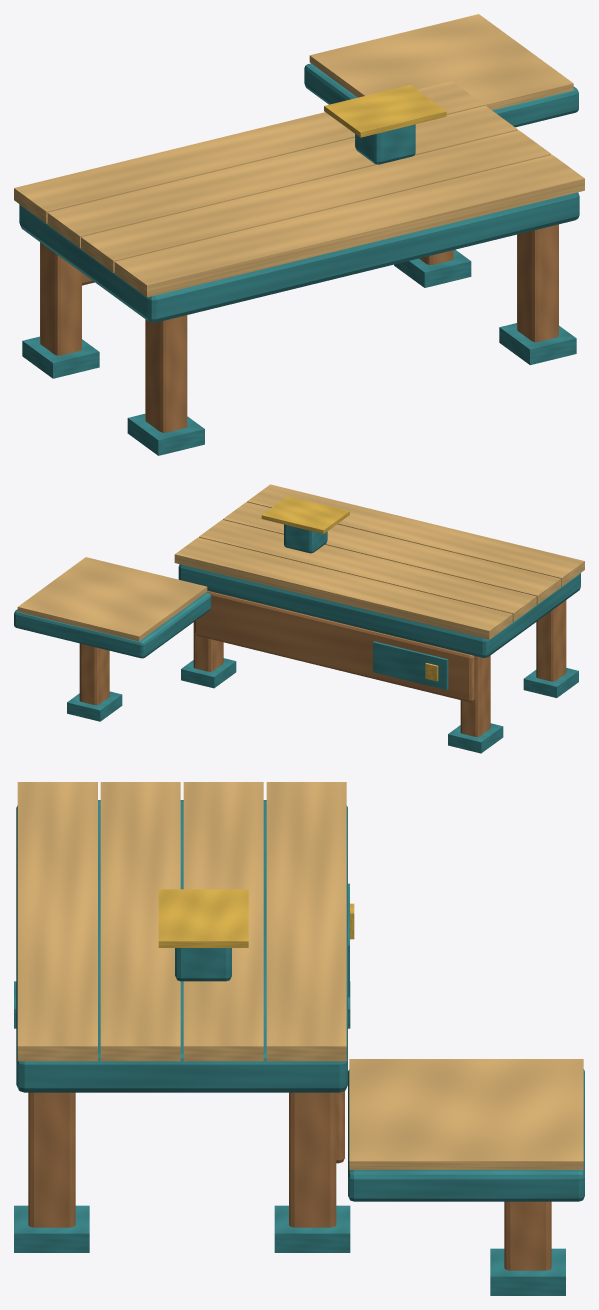
File: industry-market-stall-tier-1.glb
3 views of the same model, one above another, from view 1: azimuth 30°, elevation 25°; view 2: azimuth 150°, elevation 25°; view 3: azimuth 270°, elevation 25° (orthographic). The views are drawn at different scales.
Visible parts, largest first — view 1: industry-market-stall-tier-1-mesh; view 2: industry-market-stall-tier-1-mesh; view 3: industry-market-stall-tier-1-mesh.
Part boxes in pixels (x1,y1,x2,y2): industry-market-stall-tier-1-mesh: (14,14,584,455); industry-market-stall-tier-1-mesh: (14,484,584,753); industry-market-stall-tier-1-mesh: (14,782,584,1295).
Bounding box in the file's own units: 3.42 × 1.25 × 2.41.
Materials: 1 (1 with a texture image).
